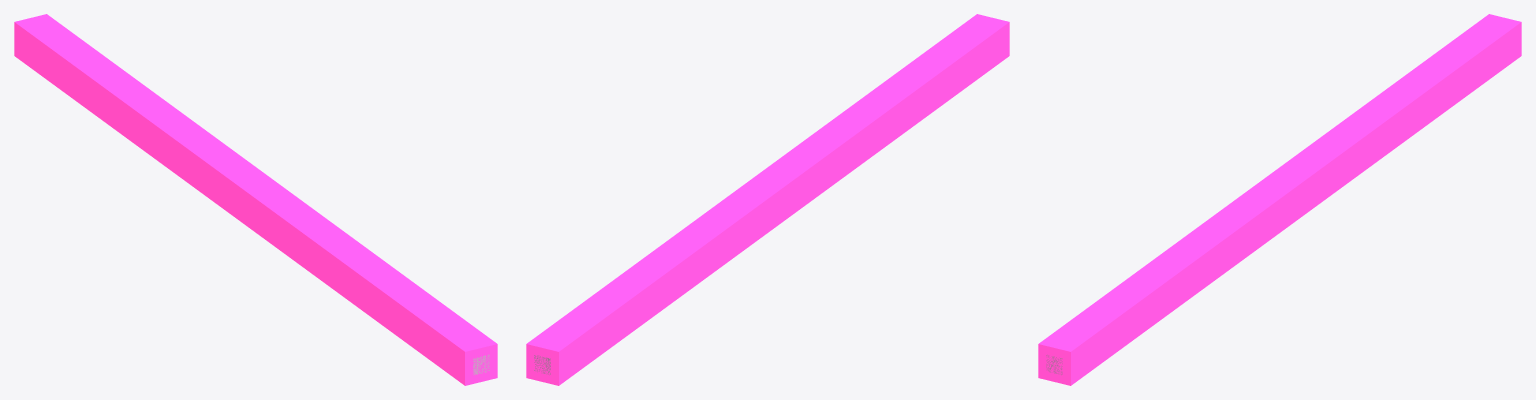
File: FXLaser.fbx
The picture shows the model from 3 angles, left to right: view 1: azimuth 30°, elevation 25°; view 2: azimuth 150°, elevation 25°; view 3: azimuth 330°, elevation 25°; orthographic projection.
Parts seen in each view (by area): view 1: FX Laser_body_0; view 2: FX Laser_body_0; view 3: FX Laser_body_0.
Boxes of the visible parts, x1,y1,x2,y2 form: FX Laser_body_0: (14, 14, 497, 385); FX Laser_body_0: (526, 14, 1009, 385); FX Laser_body_0: (1038, 14, 1521, 385).
Size of the model in its own units: 50 by 50 by 1200.
